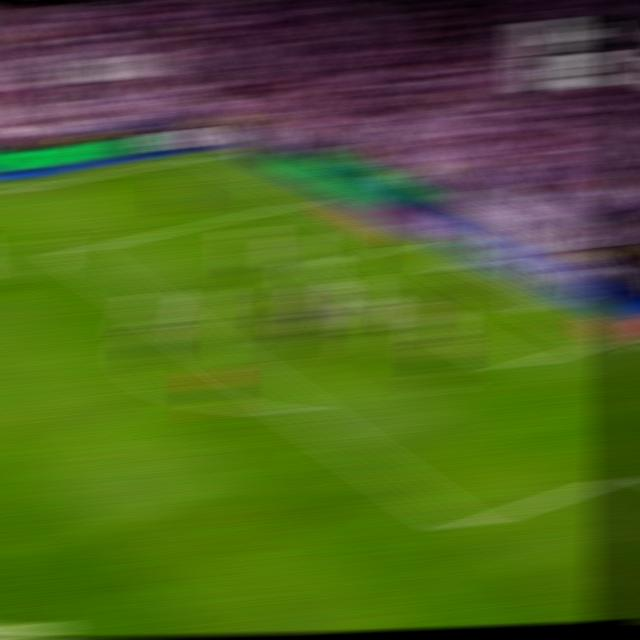bigarea_bottom_inner: (445, 511, 485, 543)
bigarea_bottom_outter: (588, 332, 622, 348)
bigarea_top_inner: (58, 243, 89, 261)
bigarea_top_outter: (290, 192, 322, 206)
bottom_arc_area_intersection: (279, 396, 316, 421)
corner: (195, 148, 229, 160)
smallarea_bottom_inner: (500, 355, 534, 377)
smallarea_top_inner: (308, 254, 342, 271)
top_arc_area_intersection: (148, 305, 182, 324)
